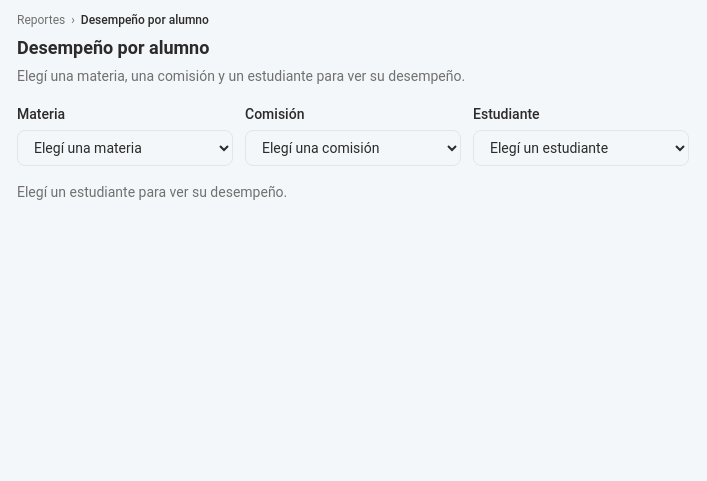
Scenario: DesempenoPorAlumno › recorrido completo en cascada: Materia → Comisión → Estudiante muestra resumen y detalle
expect the text "Elegí un estudiante para ver su desempeño." is shown: met, box [17,184,287,200]
Select "Ingeniería de Software" in the dropdown labelled "Materia" at {"x": 125, "y": 148}, box [17,130,233,166]
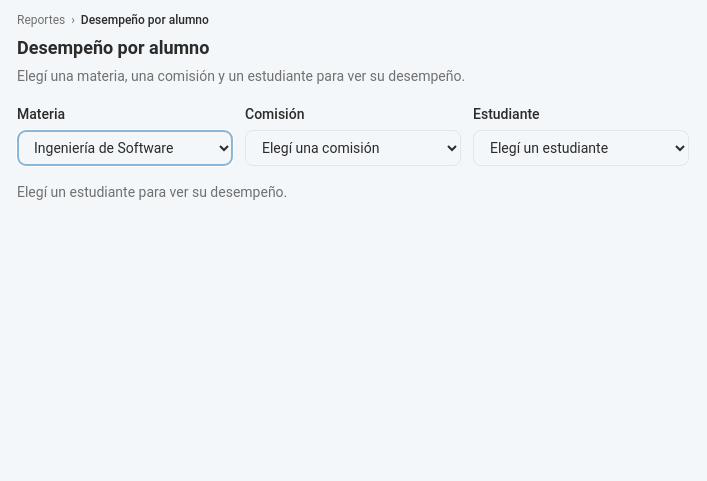
Select "Lunes 18-20hs" in the dropdown labelled "Comisión" at {"x": 353, "y": 148}, box [245,130,461,166]
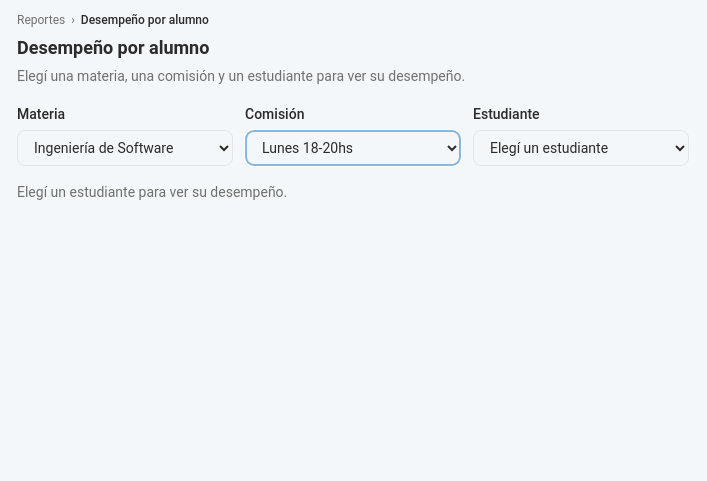
Select "Ana Pérez" in the dropdown labelled "Estudiante" at {"x": 581, "y": 148}, box [473,130,689,166]
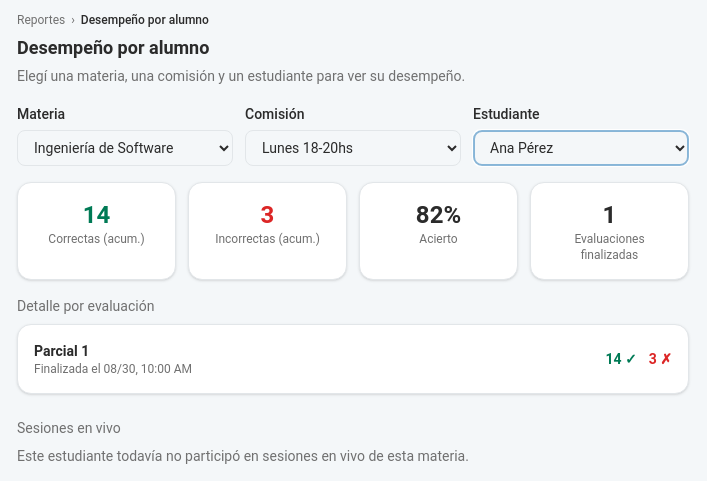
expect the text "Parcial 1" is shown: met, box [34,343,89,359]
expect the text "14" is shown: met, box [83,201,110,229]
expect the text "82%" is shown: met, box [416,201,461,229]
